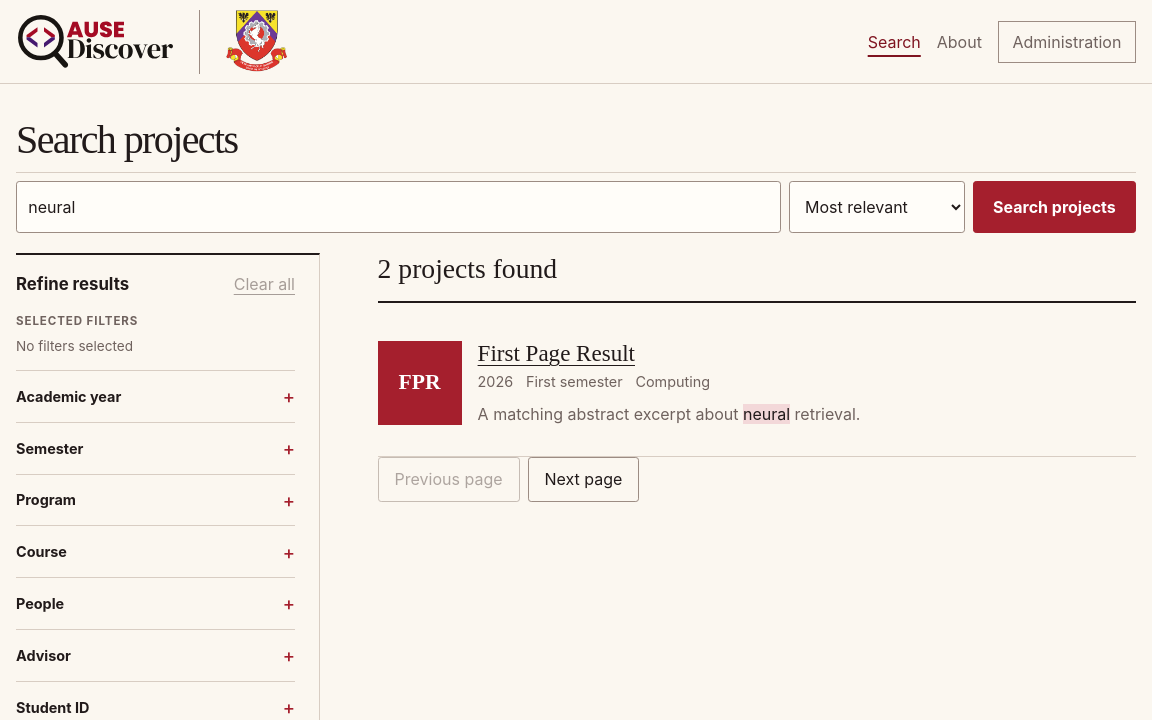
Test case: public search paging › uses accurate page labels, local cursor history, and resets history after a filter change
This screenshot has width=1152, height=720.
Expected: the heading "First Page Result" is shown, x1=478 y1=340 x2=635 y2=366
Expected: the button "Previous page" is disabled, x1=378 y1=457 x2=520 y2=502
Click the button "Next page".
click(583, 479)  # box x1=528 y1=457 x2=639 y2=502
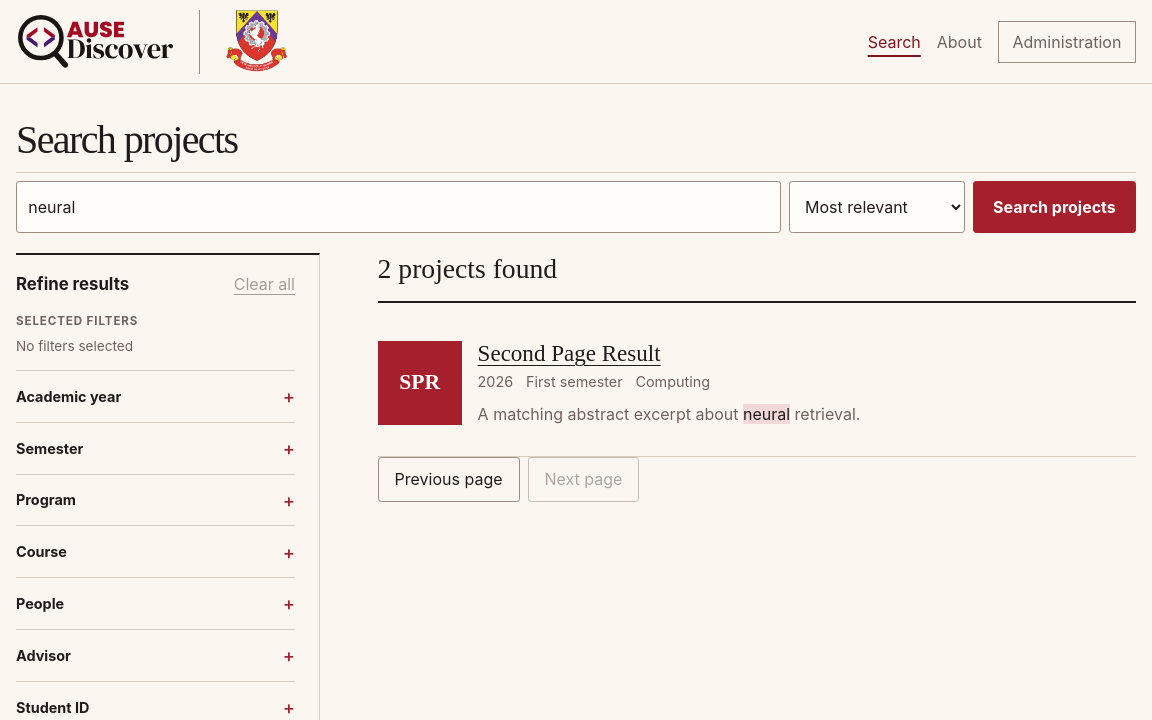
Expected: the heading "Second Page Result" is shown, x1=478 y1=340 x2=661 y2=366
Expected: the button "Previous page" is enabled
Click the button "Previous page".
click(449, 479)  # box x1=378 y1=457 x2=520 y2=502
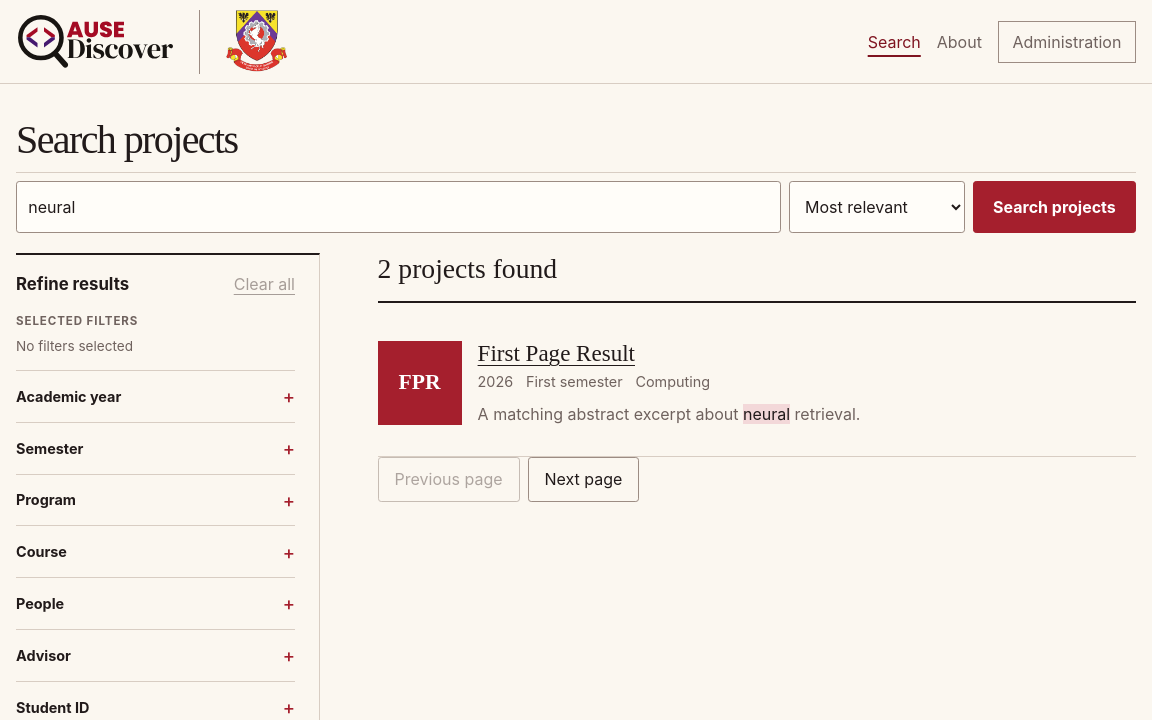
Expected: the heading "First Page Result" is shown, x1=478 y1=340 x2=635 y2=366
Click the button "Next page".
click(583, 479)  # box x1=528 y1=457 x2=639 y2=502
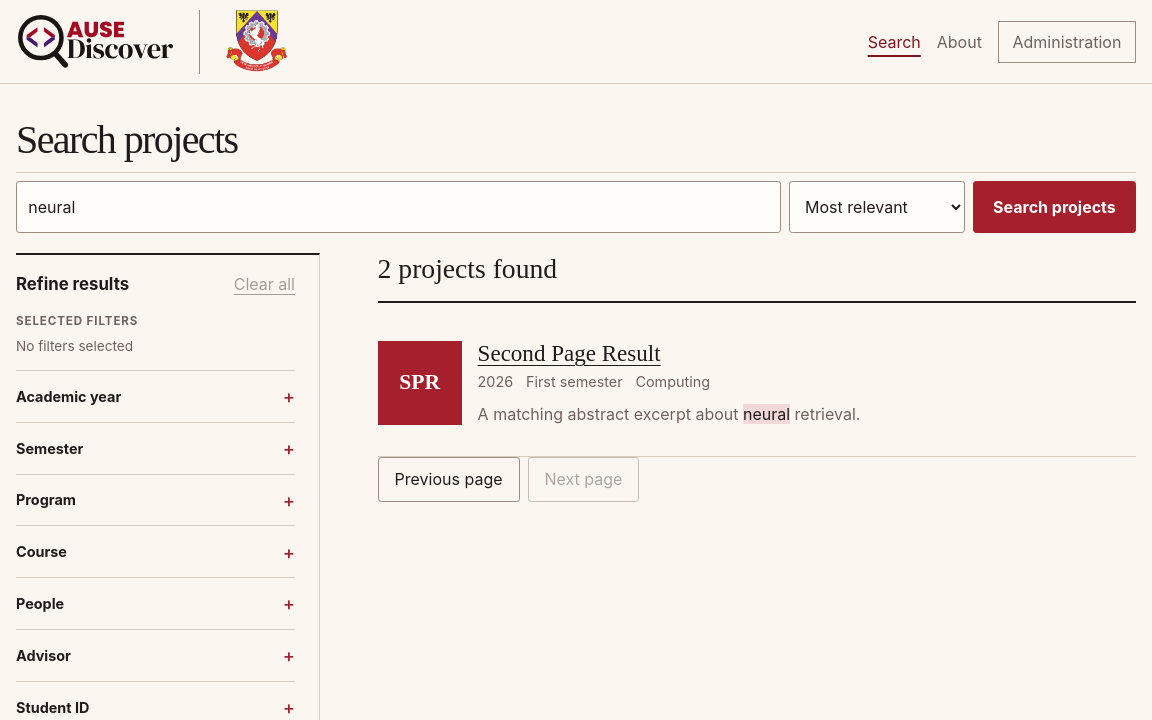
Expected: the heading "Second Page Result" is shown, x1=478 y1=340 x2=661 y2=366
Click the heading "Semester".
click(50, 448)  # box x1=16 y1=440 x2=83 y2=457
(page scrolled)
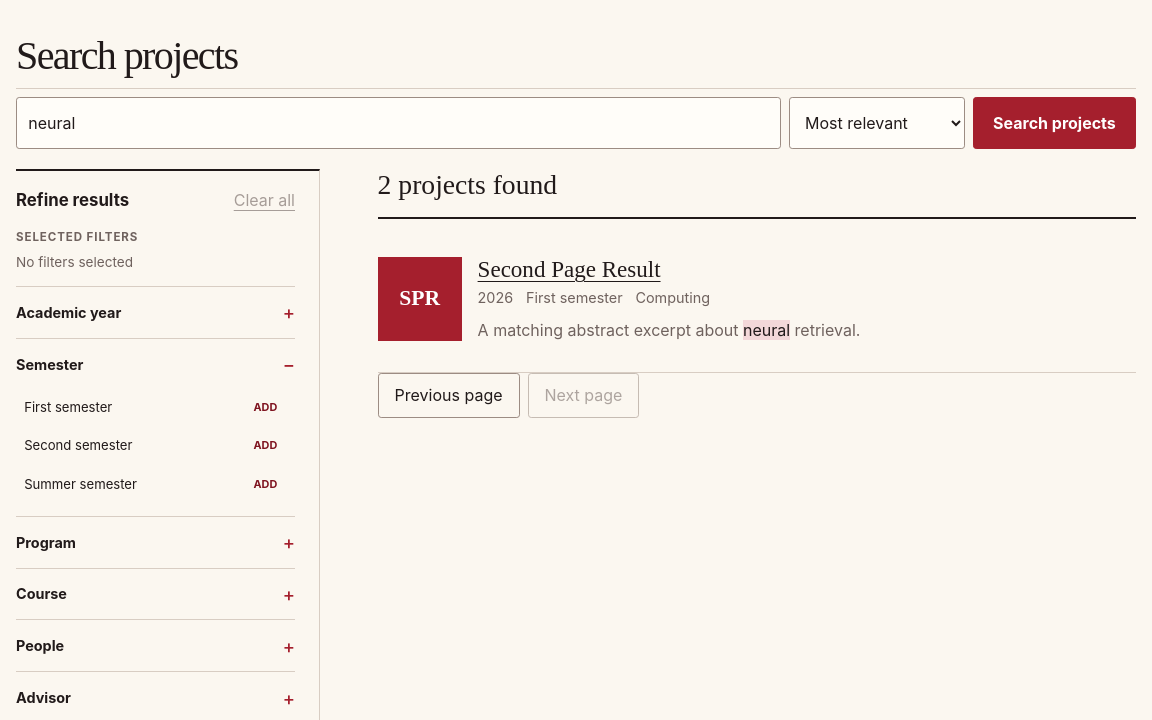
Click the button "First semester Add".
click(68, 407)  # box x1=16 y1=390 x2=292 y2=424
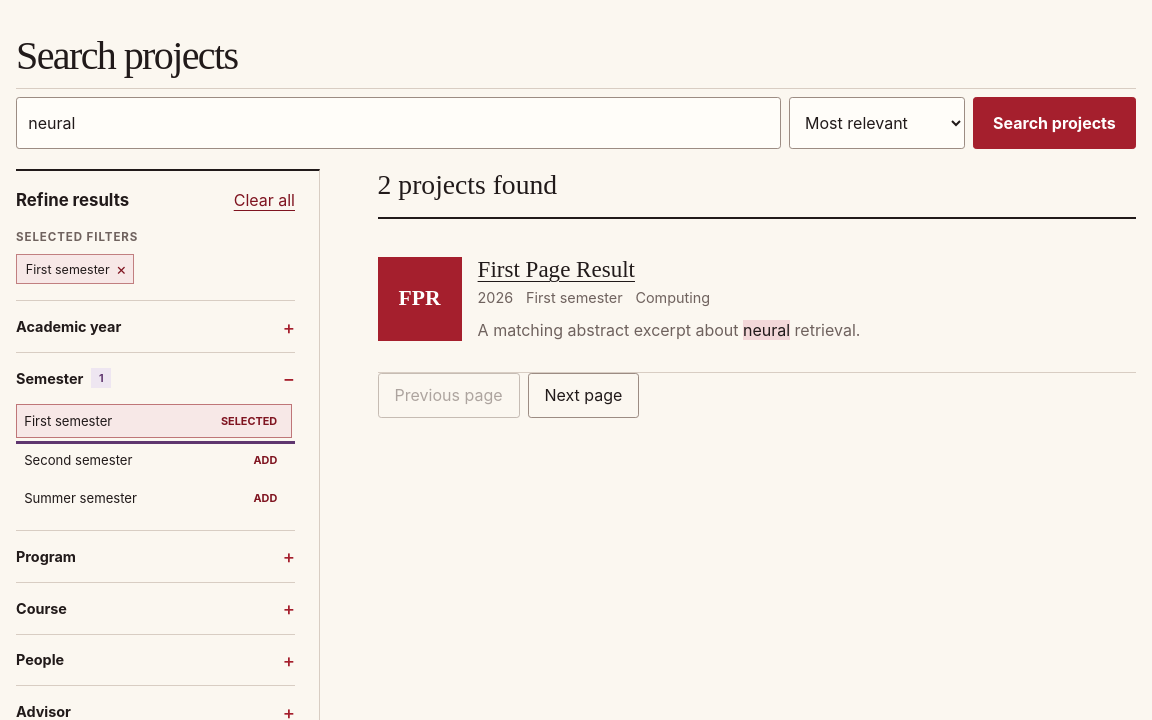
Expected: the heading "First Page Result" is shown, x1=478 y1=256 x2=635 y2=282
Expected: the button "Previous page" is disabled, x1=378 y1=373 x2=520 y2=418
